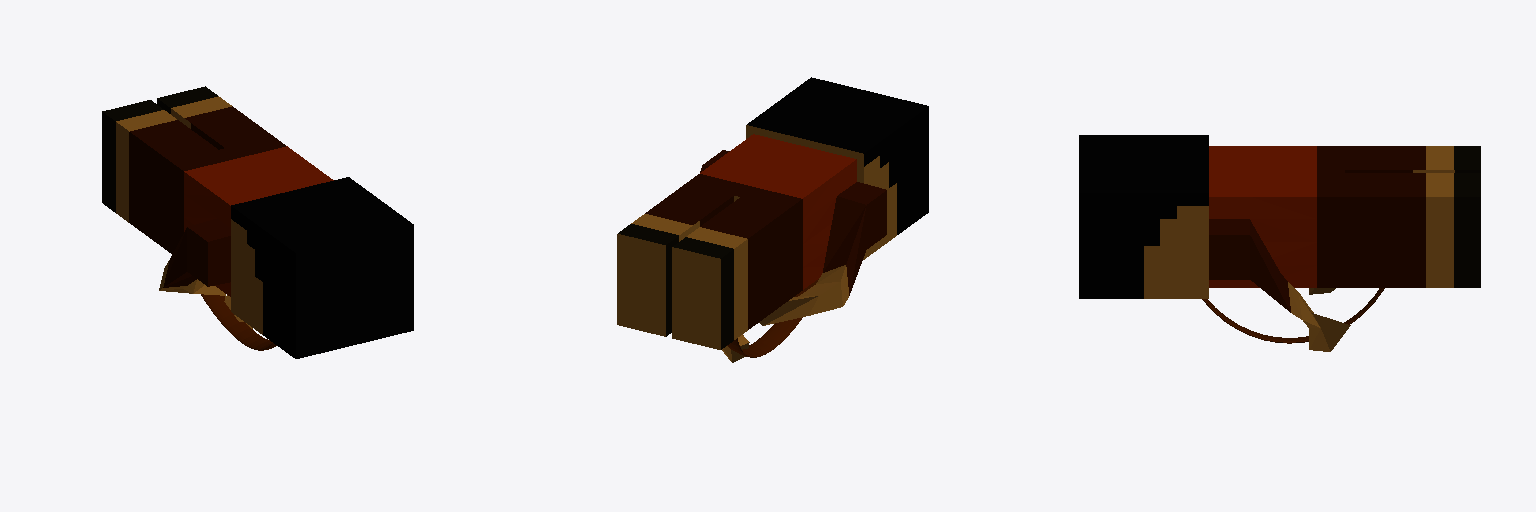
The model's file is henchman.obj.
The picture shows the model from 3 angles: view 1: azimuth 30°, elevation 25°; view 2: azimuth 150°, elevation 25°; view 3: azimuth 270°, elevation 25°; orthographic projection.
Visible parts, largest first — view 1: Cube, Bow; view 2: Cube, Bow; view 3: Cube, Bow.
Boxes of the visible parts, x1=… form: Cube: x1=102, y1=86, x2=413, y2=358; Bow: x1=201, y1=294, x2=276, y2=350; Cube: x1=617, y1=77, x2=928, y2=362; Bow: x1=727, y1=279, x2=818, y2=357; Cube: x1=1079, y1=135, x2=1480, y2=351; Bow: x1=1202, y1=288, x2=1384, y2=343.
Size of the model in its own units: 1 by 1 by 2.